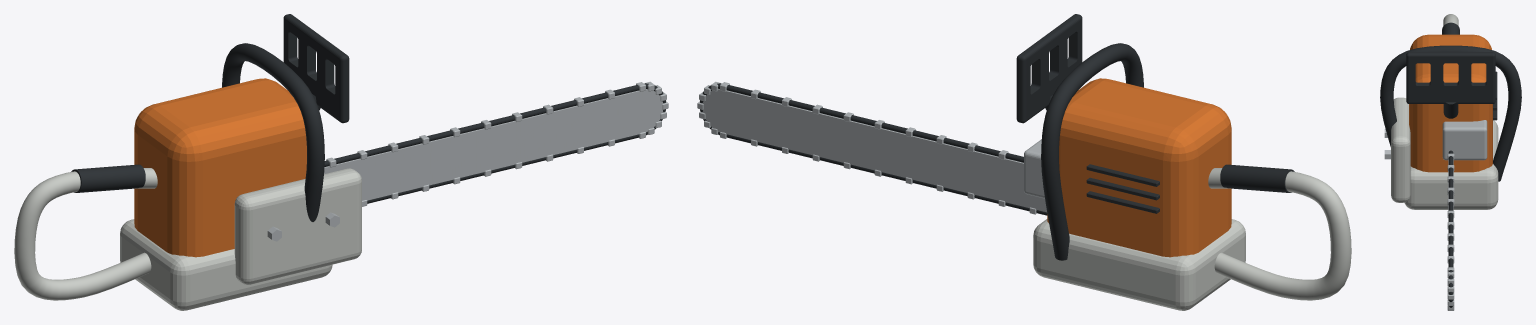
File: A-NEW-20261026-CHAINSAW-001_LOD0_R2.glb
3 views of the same model, side by side, from view 1: azimuth 30°, elevation 25°; view 2: azimuth 150°, elevation 25°; view 3: azimuth 270°, elevation 25° (orthographic). The views are drawn at different scales.
Parts seen in each view (by area): view 1: engine outer housing, rounded guide bar, side sprocket cover, lower chassis, rear loop handle, slotted upright handguard, arched front grip, continuous dark chain, rear dark top grip; view 2: engine outer housing, rounded guide bar, lower chassis, rear loop handle, arched front grip, slotted upright handguard, continuous dark chain, rear dark top grip, muffler-like outer box, external vent fin.001, external vent fin, external vent fin.002; view 3: engine outer housing, slotted upright handguard, lower chassis, arched front grip, side sprocket cover, muffler-like outer box, continuous dark chain, handguard root, rear dark top grip, rear loop handle, rounded guide bar.
Part boxes in pixels (<box>): engine outer housing: <box>134,78,306,257</box>; rounded guide bar: <box>324,89,662,200</box>; side sprocket cover: <box>234,168,361,284</box>; lower chassis: <box>120,219,332,310</box>; rear loop handle: <box>14,168,157,300</box>; slotted upright handguard: <box>283,14,349,123</box>; arched front grip: <box>222,43,324,221</box>; continuous dark chain: <box>324,83,665,203</box>; rear dark top grip: <box>71,164,145,192</box>; engine outer housing: <box>1047,78,1231,257</box>; rounded guide bar: <box>703,89,1046,212</box>; lower chassis: <box>1033,219,1245,310</box>; rear loop handle: <box>1208,168,1351,300</box>; arched front grip: <box>1041,43,1143,260</box>; slotted upright handguard: <box>1016,14,1082,123</box>; continuous dark chain: <box>700,83,1047,215</box>; rear dark top grip: <box>1220,164,1294,192</box>; muffler-like outer box: <box>1024,139,1044,198</box>; external vent fin.001: <box>1086,177,1159,200</box>; external vent fin: <box>1086,191,1159,213</box>; external vent fin.002: <box>1086,164,1159,186</box>; engine outer housing: <box>1409,34,1492,172</box>; slotted upright handguard: <box>1406,52,1495,103</box>; lower chassis: <box>1404,120,1498,209</box>; arched front grip: <box>1380,45,1521,181</box>; side sprocket cover: <box>1391,97,1410,202</box>; muffler-like outer box: <box>1442,120,1487,160</box>; continuous dark chain: <box>1448,150,1453,307</box>; handguard root: <box>1443,102,1458,118</box>; rear dark top grip: <box>1442,22,1459,34</box>; rear loop handle: <box>1443,14,1458,25</box>; rounded guide bar: <box>1448,160,1453,292</box>.
Bounding box in the file's own units: 1.01 × 0.325 × 0.254.
